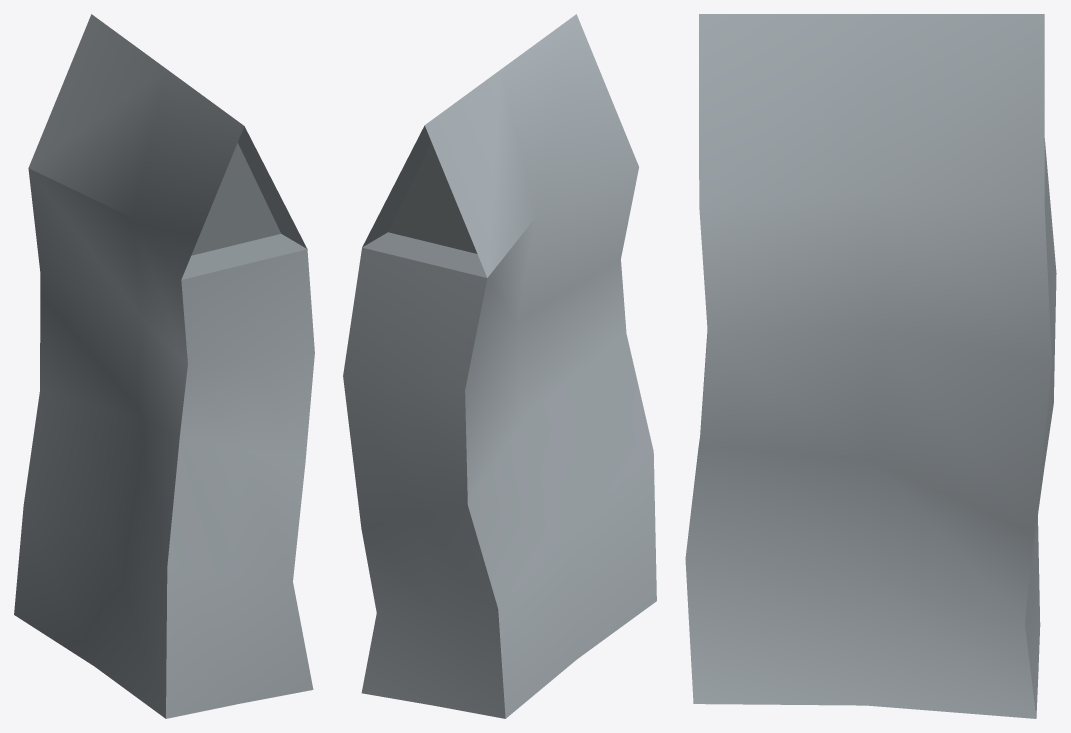
Rendered from Tetra_01.fbx.
The picture shows the model from 3 angles, left to right: view 1: azimuth 30°, elevation 25°; view 2: azimuth 150°, elevation 25°; view 3: azimuth 270°, elevation 25°; orthographic projection. The views are drawn at different scales.
Parts seen in each view (by area): view 1: Tetra_01; view 2: Tetra_01; view 3: Tetra_01.
Part boxes in pixels (x1,y1,x2,y2): Tetra_01: (14, 14, 314, 718); Tetra_01: (343, 14, 656, 718); Tetra_01: (685, 14, 1056, 718).
Size of the model in its own units: 14.41 by 51.29 by 25.82.
